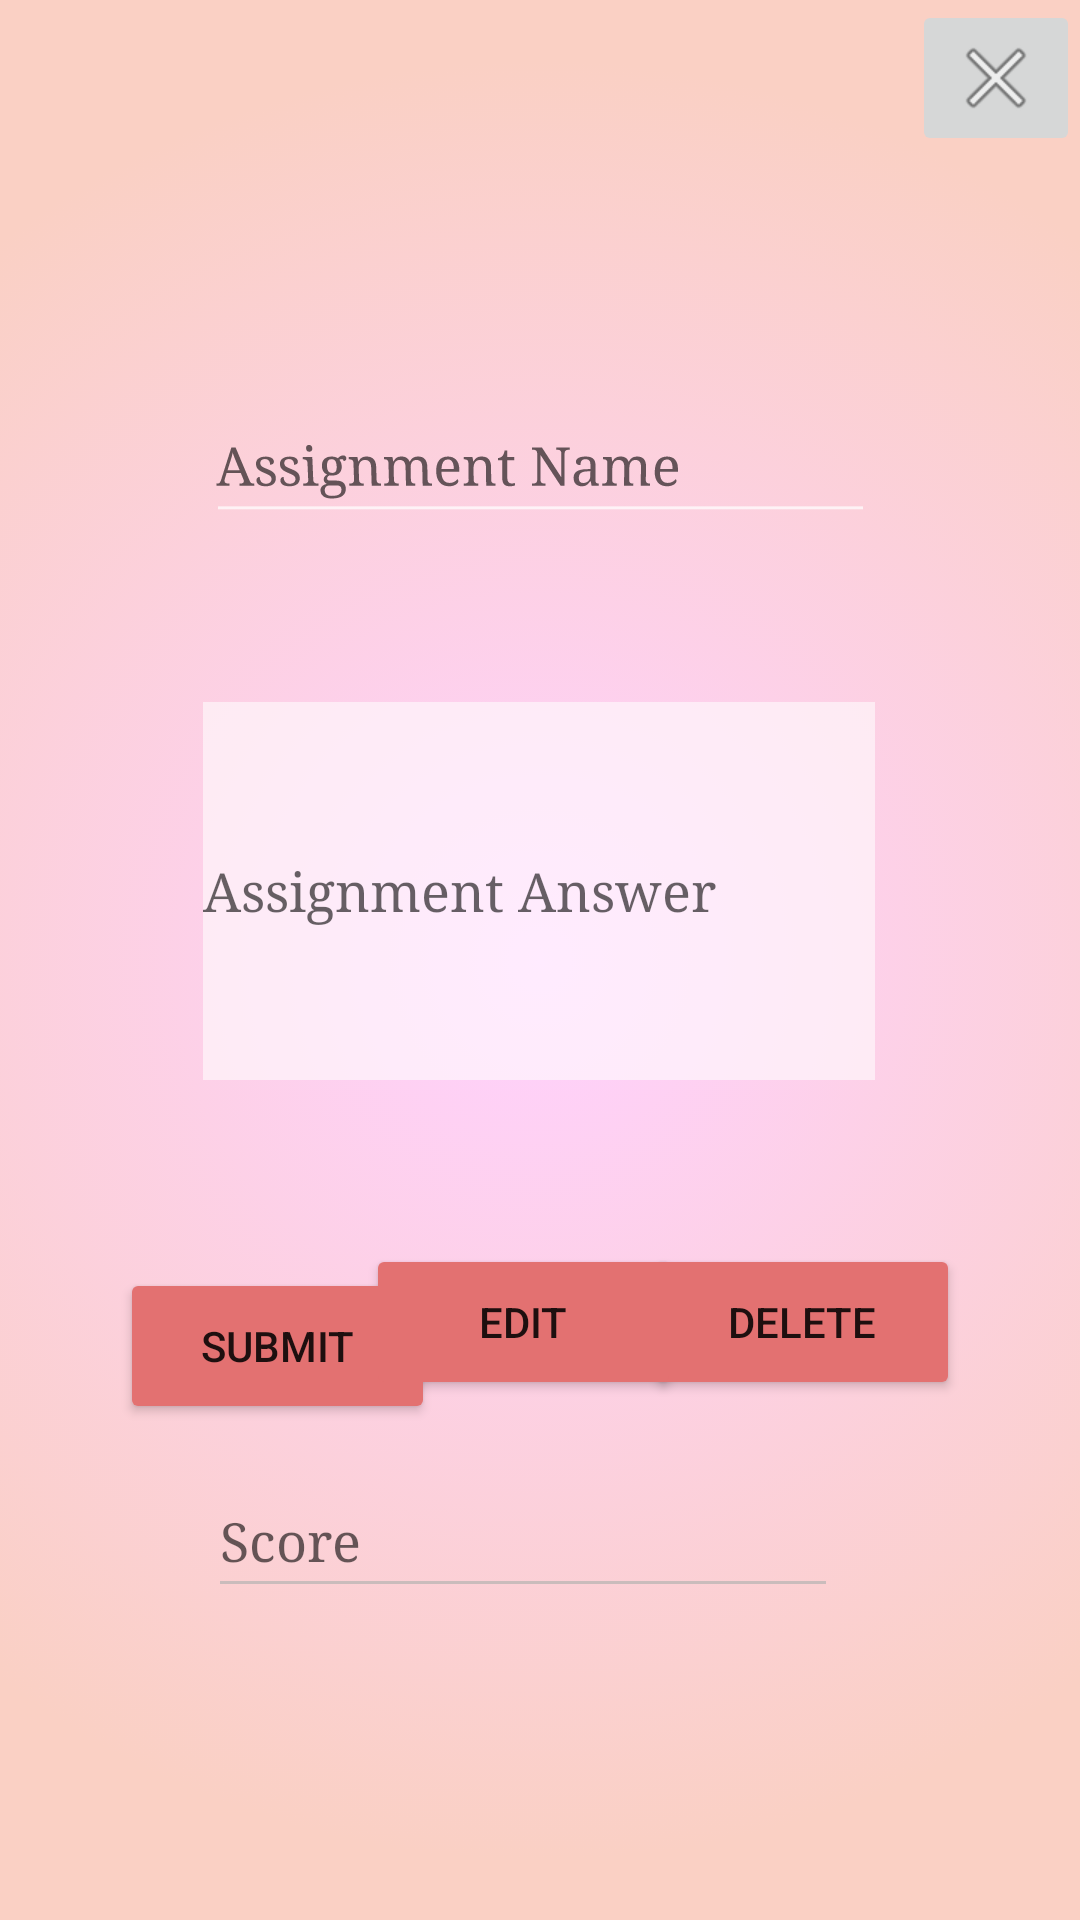

Where icons sit on this 1080 x 1920 app screen, as (x1, y1, x2, y2):
close clear cancel: (924, 18, 1068, 138)
